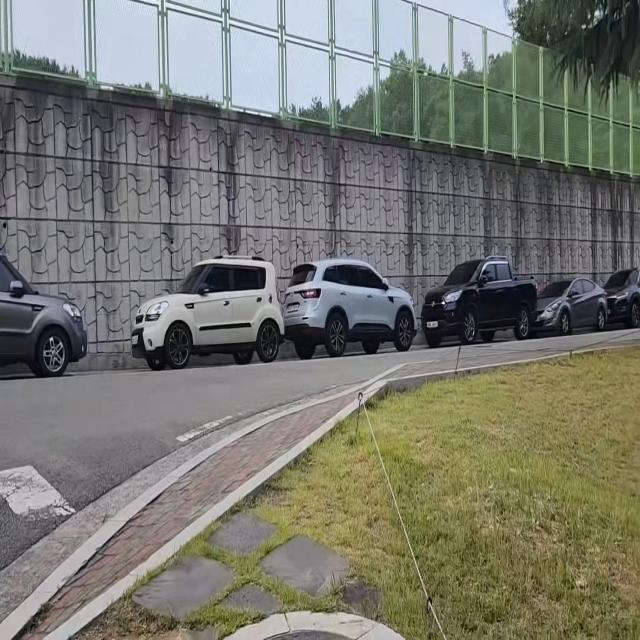obstacle: (422, 256, 640, 354), (128, 250, 288, 375), (278, 253, 422, 364), (0, 234, 89, 384)
road: (0, 329, 640, 622)
sidewalk: (0, 388, 383, 636)
